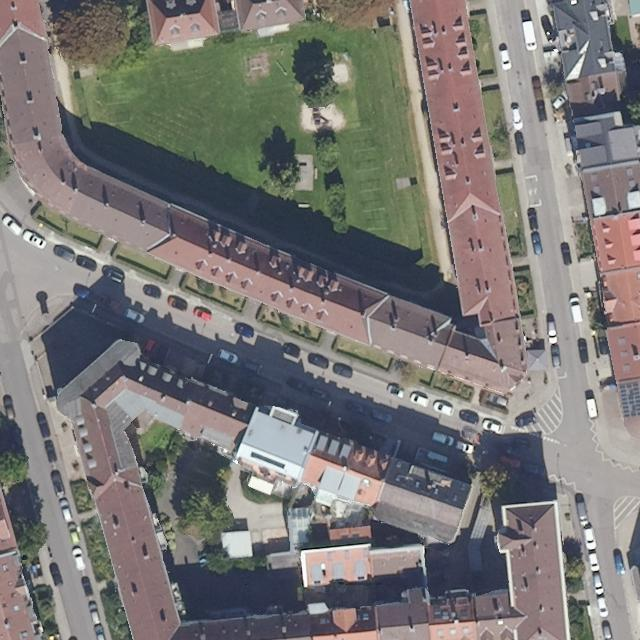PV: (618, 381, 639, 418)
